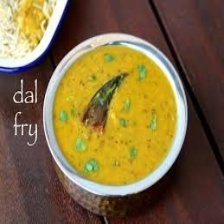rice: (0, 0, 56, 62)
